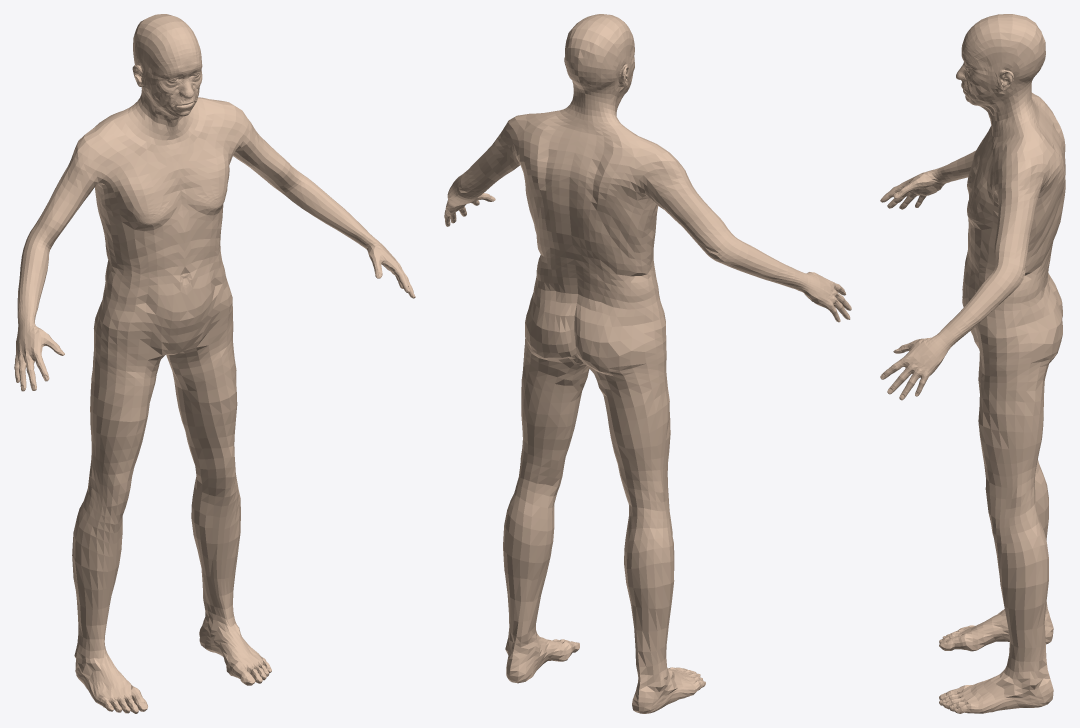
The model's file is male-elder-fit-medium.glb.
3 renders of one model, left to right at view 1: azimuth 30°, elevation 25°; view 2: azimuth 150°, elevation 25°; view 3: azimuth 270°, elevation 25°, orthographic.
Visible parts, largest first — view 1: world; view 2: world; view 3: world.
Boxes of the visible parts, <box> form: world: <box>14,14,415,713</box>; world: <box>444,14,851,713</box>; world: <box>880,14,1065,713</box>.
Size of the model in its own units: 1.2 by 1.92 by 0.4907.
